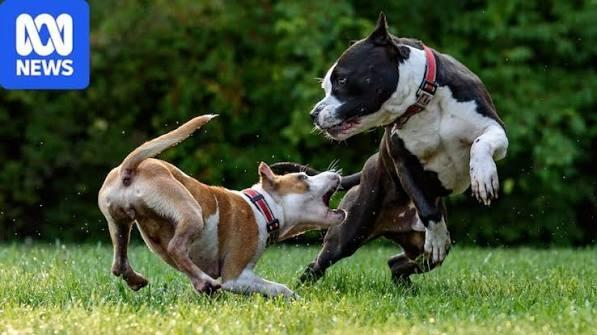adult_dog: (297, 10, 511, 292), (95, 109, 347, 304)
